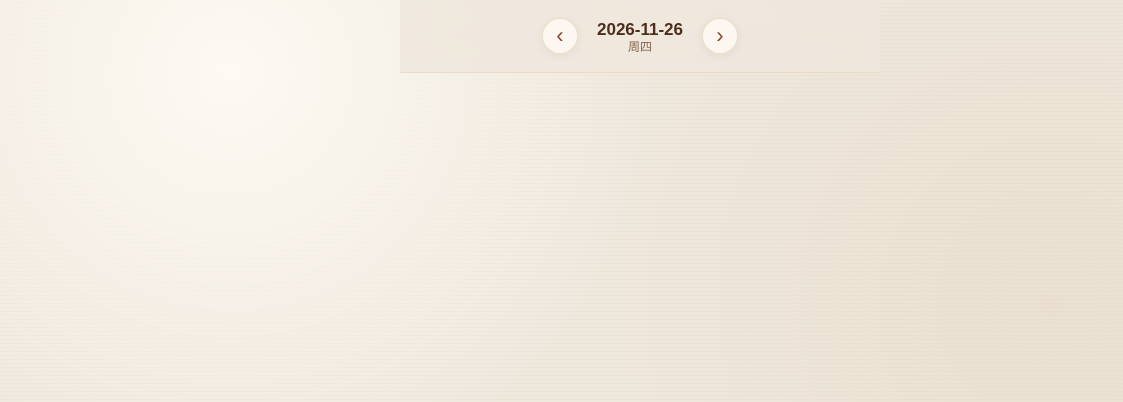
Test: DateBar › 回到今天 appears only for non-today and resets the date
Expected: the button "回到今天" is not shown
Click the button named "前一天".
click(560, 36)  # box [542, 18, 578, 54]
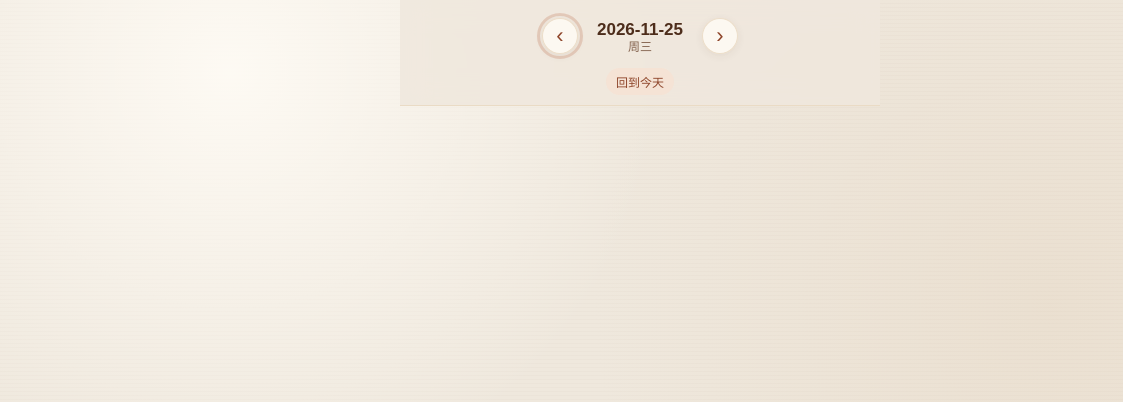
Expected: the button "回到今天" is shown
Click the button "回到今天".
click(640, 82)  # box [606, 68, 674, 95]
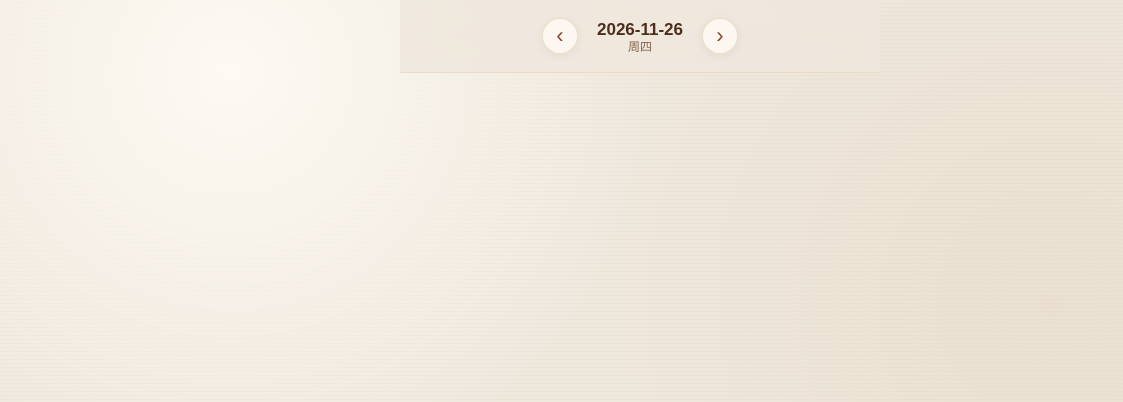
Expected: the button "回到今天" is gone
